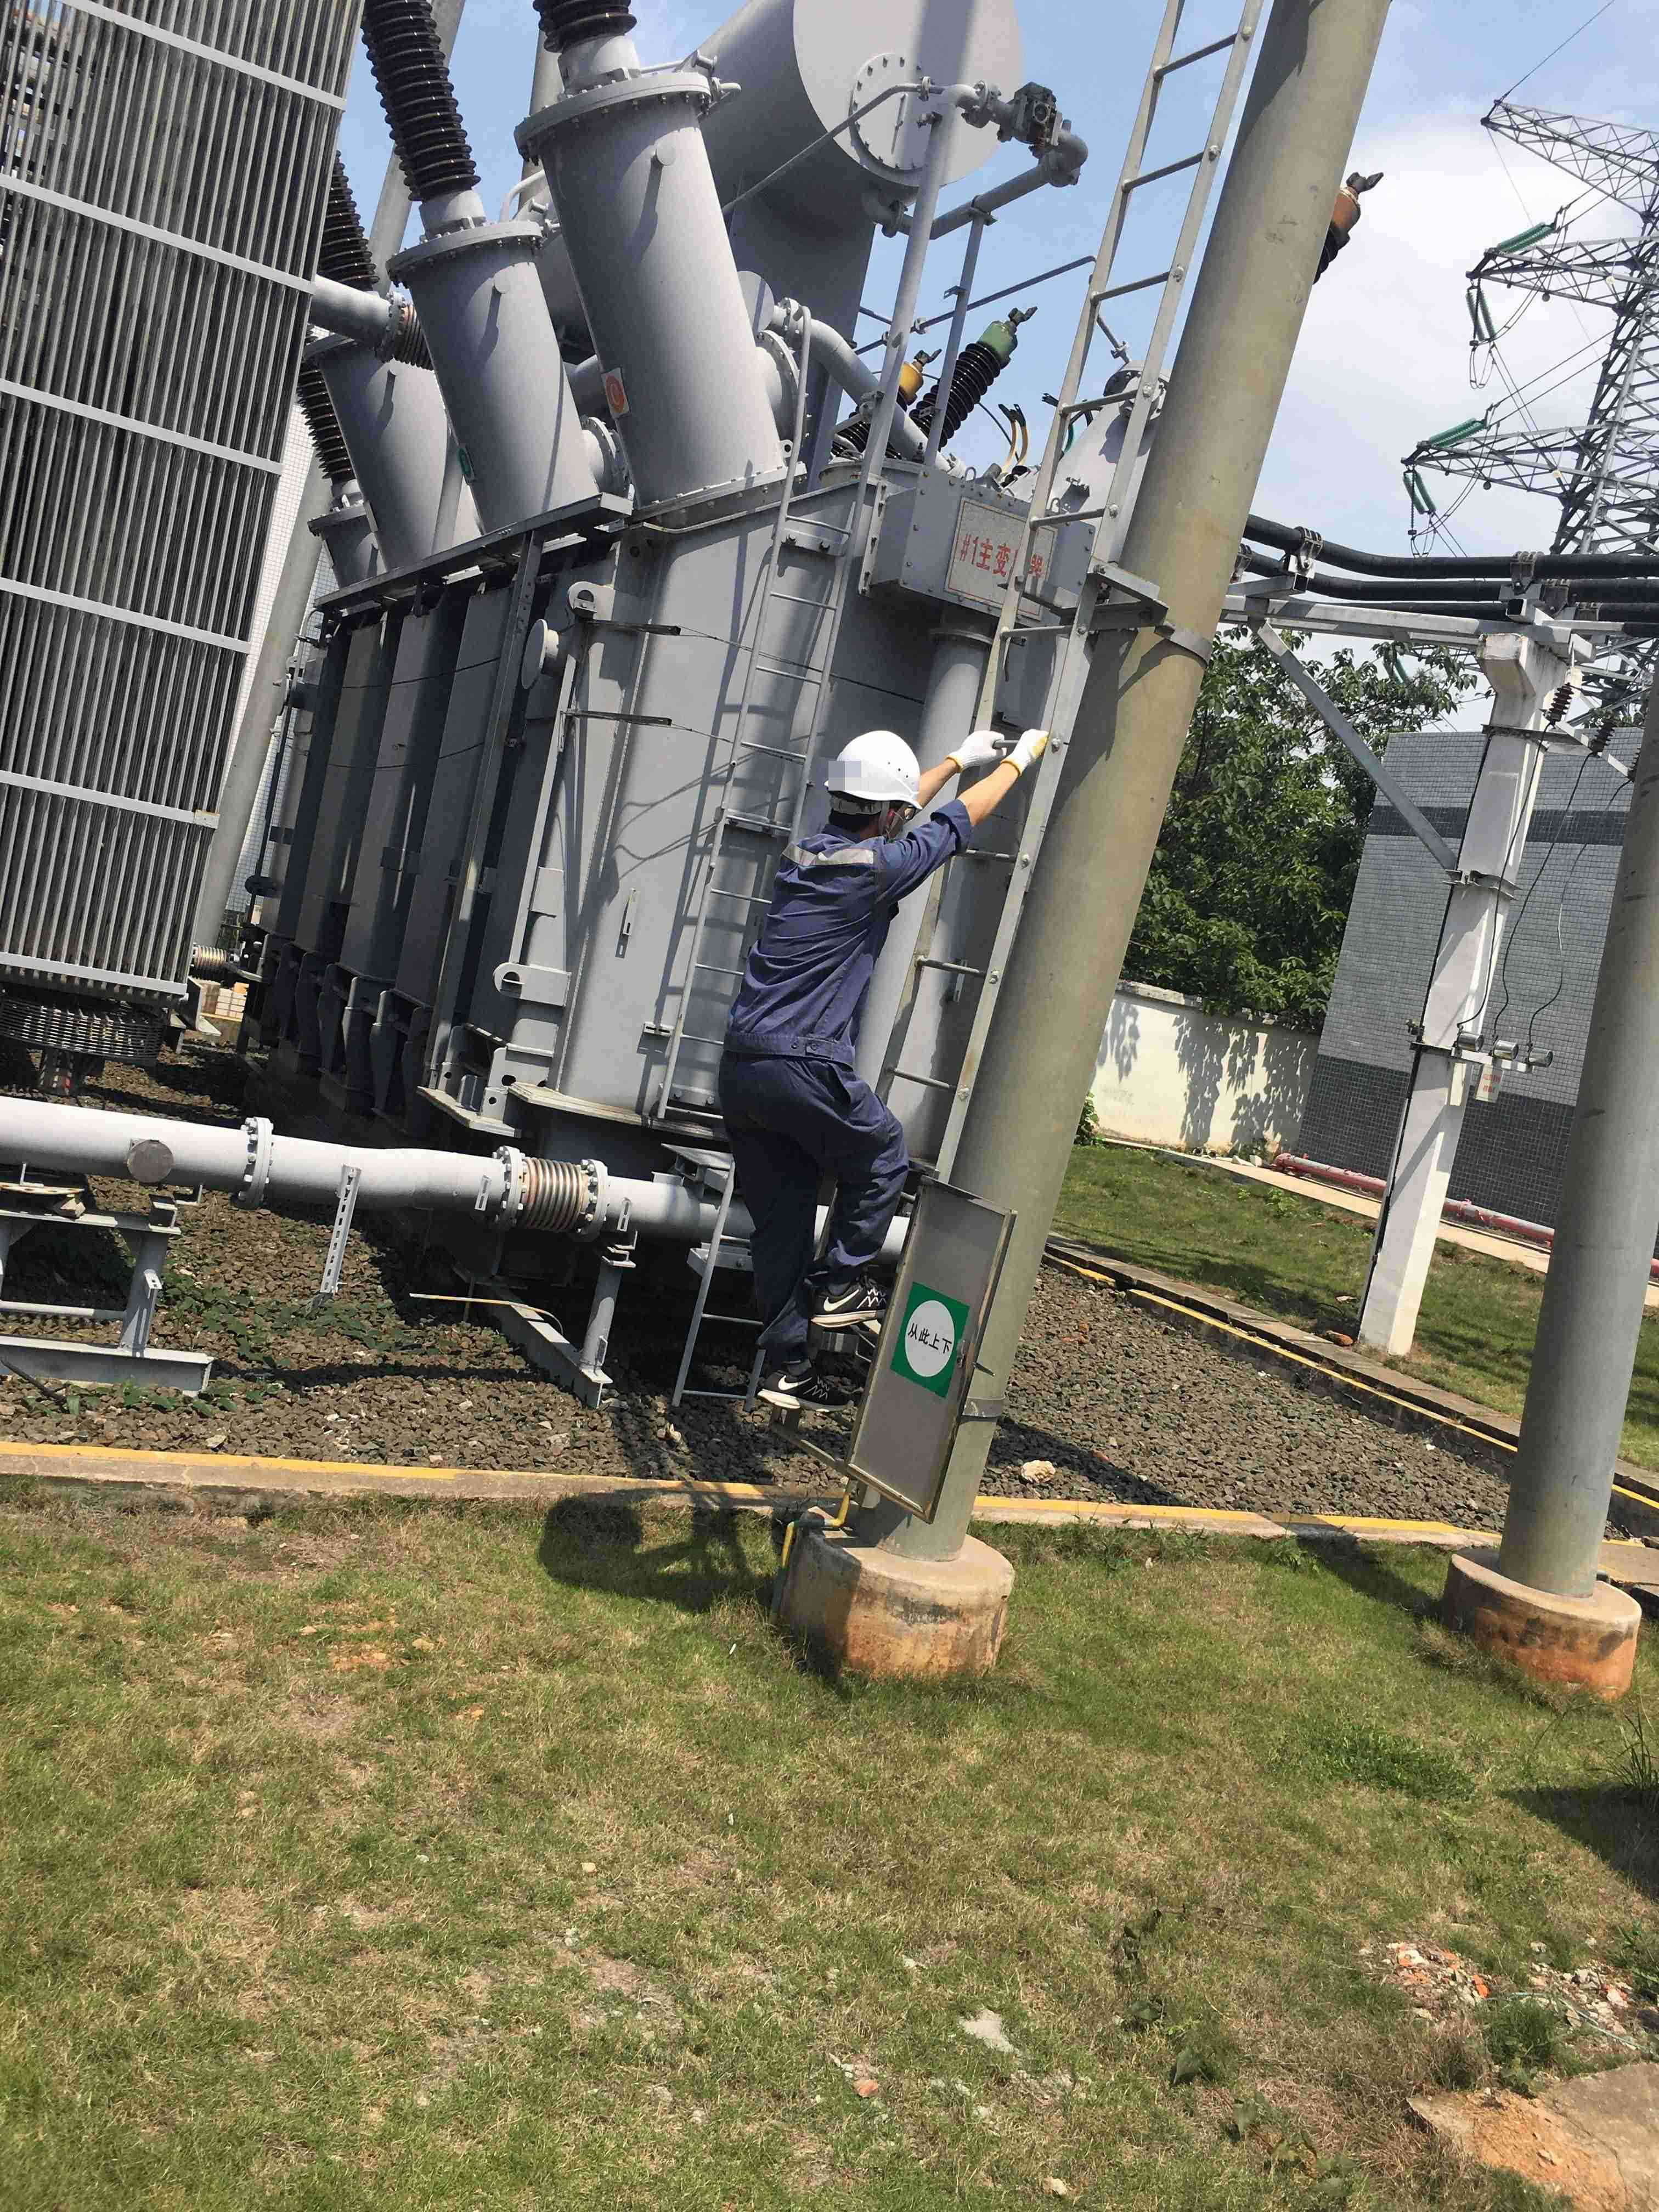downsuit: (716, 1057, 910, 1369)
upsuit: (718, 798, 976, 1064)
wrongtop: (908, 744, 1028, 857)
